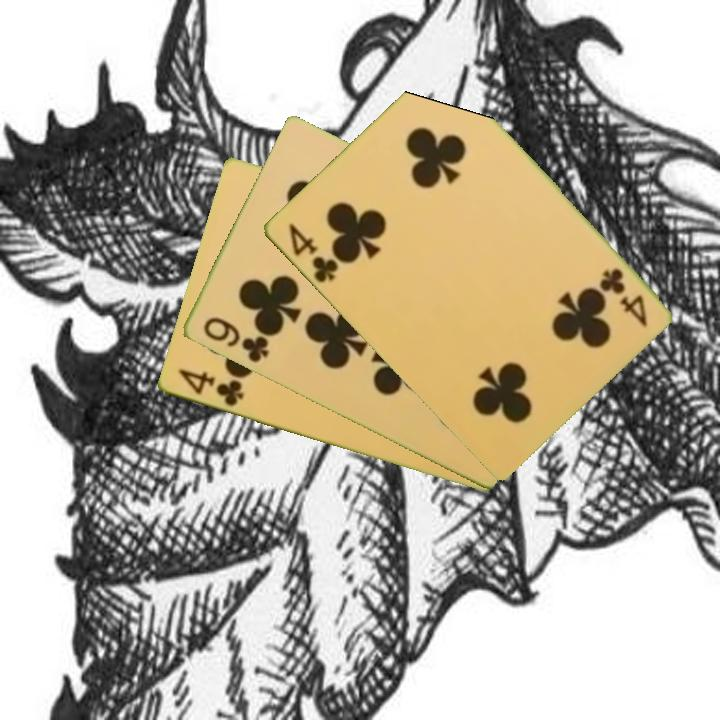4c: (284, 219, 341, 286), (596, 264, 650, 330), (174, 366, 246, 410)
9c: (199, 313, 271, 366)
